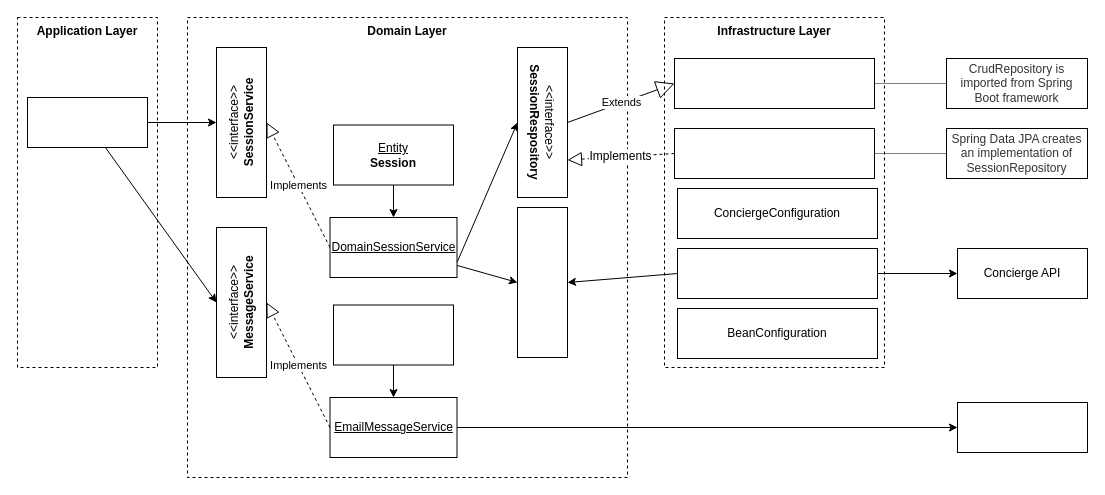
This 1105x495 diagram has some shape labels left out. Here are the shapes that lost their labels. From the top down, the centre of each, then its label:
At pixel 774 83: "CrudRepository".
At pixel 87 122: "SessionController".
At pixel 774 153: "SessionRepository".
At pixel 542 282: "<<interface>> ConciergeRespository".
At pixel 777 273: "ConciergeClient".
At pixel 393 334: "Entity Message".
At pixel 1022 427: "MailJet API".
